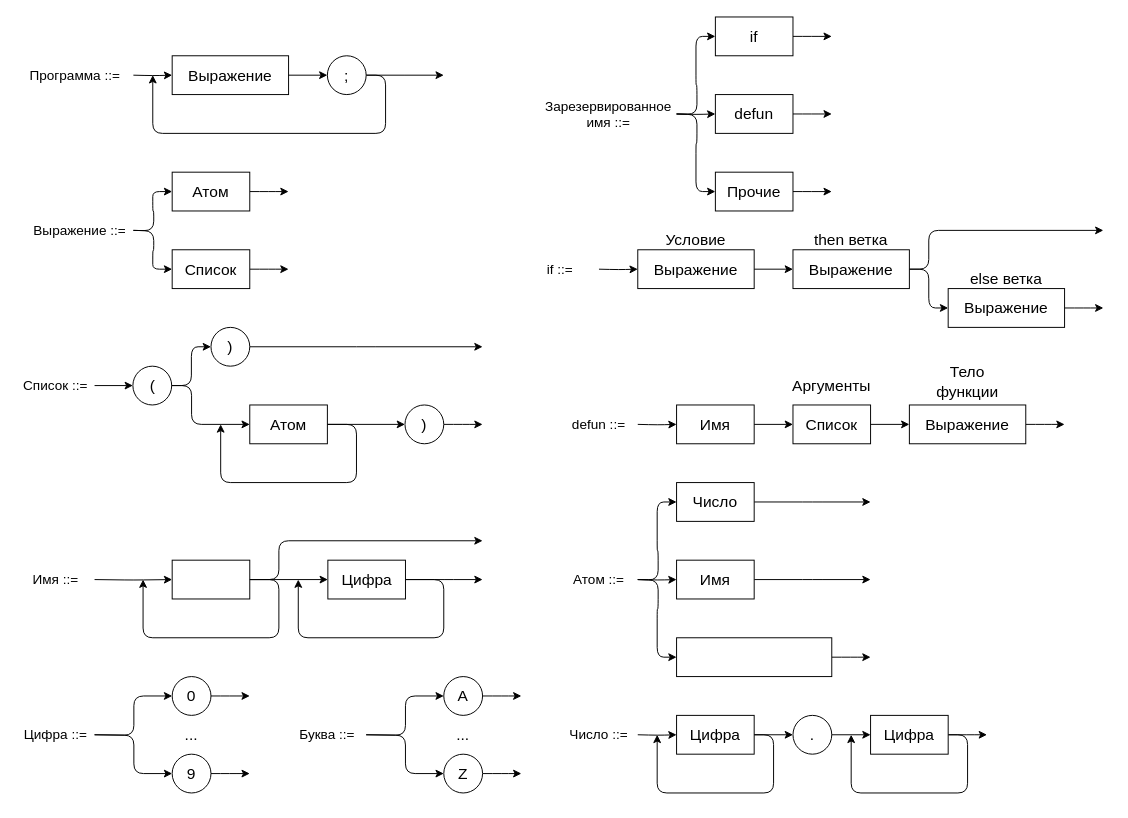
This 1128x818 diagram has some shape labels left out. Here are the shapes that lost their labels. From the top down, the centre of each, then its label:
the point at 210,579: Буква
the point at 754,657: Зарезервированное имя
